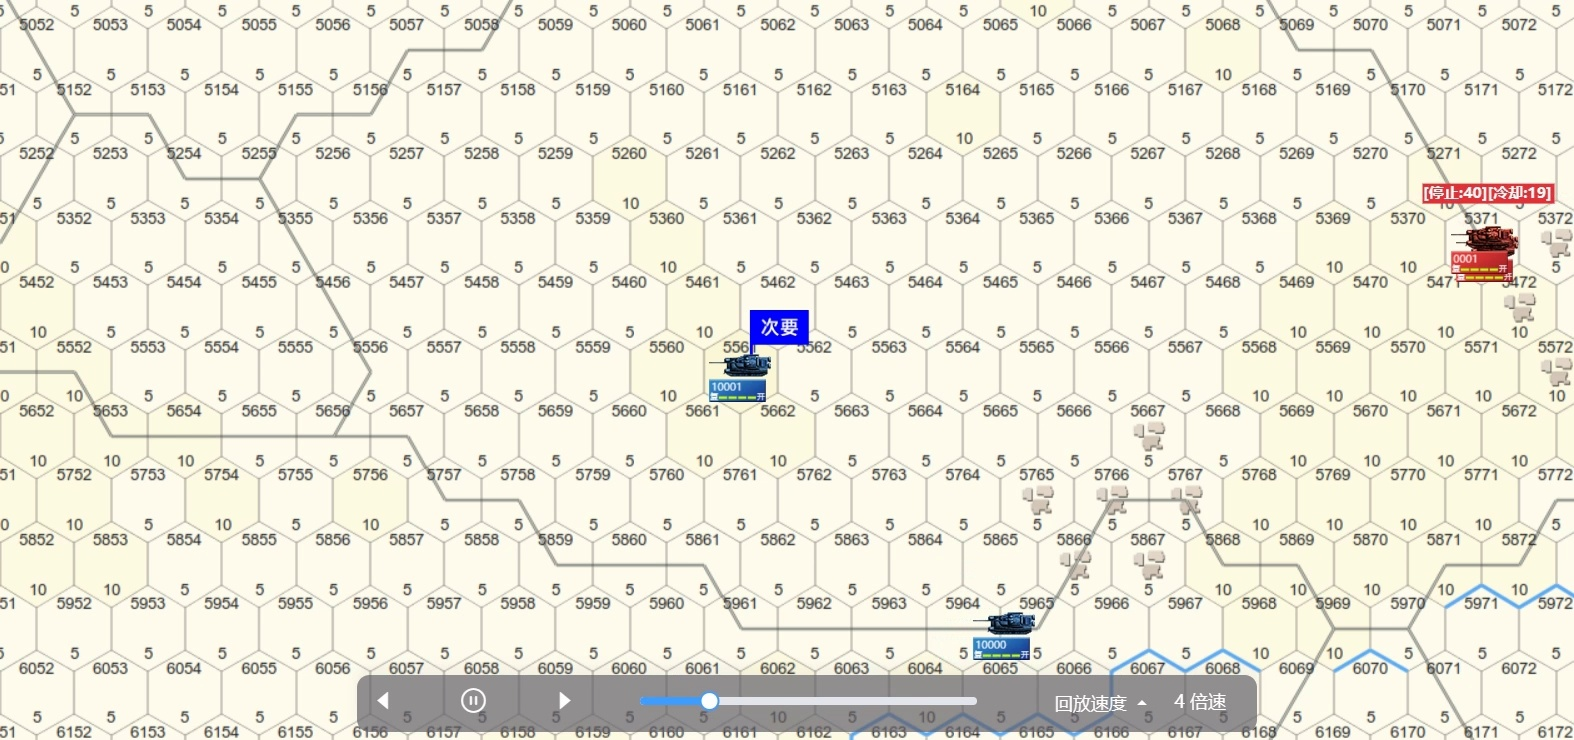blue_tank: (970, 610, 1043, 663), (715, 353, 769, 403)
red_tank: (1452, 228, 1524, 289)
